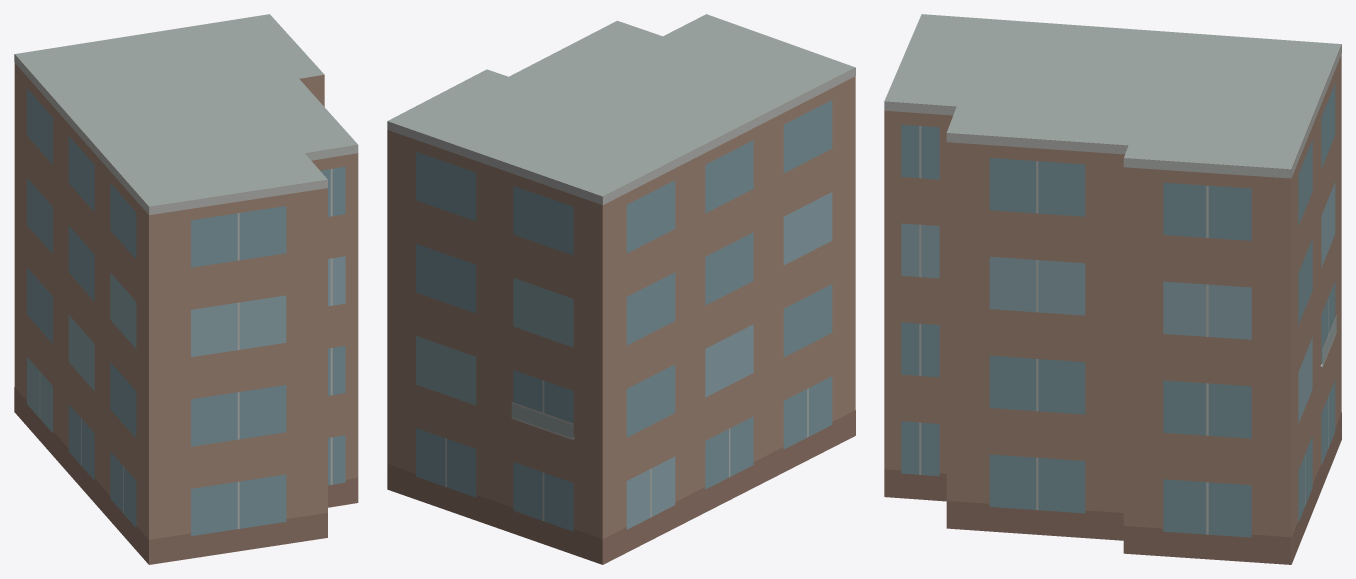
Rendered from survey-upis-32804844.glb.
3 views of the same model, side by side, from view 1: azimuth 30°, elevation 25°; view 2: azimuth 150°, elevation 25°; view 3: azimuth 270°, elevation 25° (orthographic). The views are drawn at different scales.
Parts seen in each view (by area): view 1: survey-upis-32804844.tmp; view 2: survey-upis-32804844.tmp; view 3: survey-upis-32804844.tmp.
Boxes of the visible parts, box(x1,y1,x2,y2) form: survey-upis-32804844.tmp: box(14, 14, 358, 564); survey-upis-32804844.tmp: box(387, 14, 855, 564); survey-upis-32804844.tmp: box(884, 14, 1341, 564).
Bounding box in the file's own units: 8.77 × 10.4 × 10.91.
